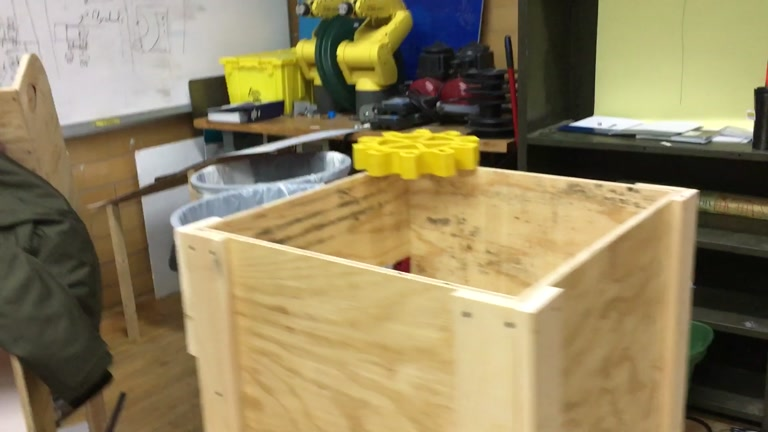gear: (352, 127, 481, 180)
